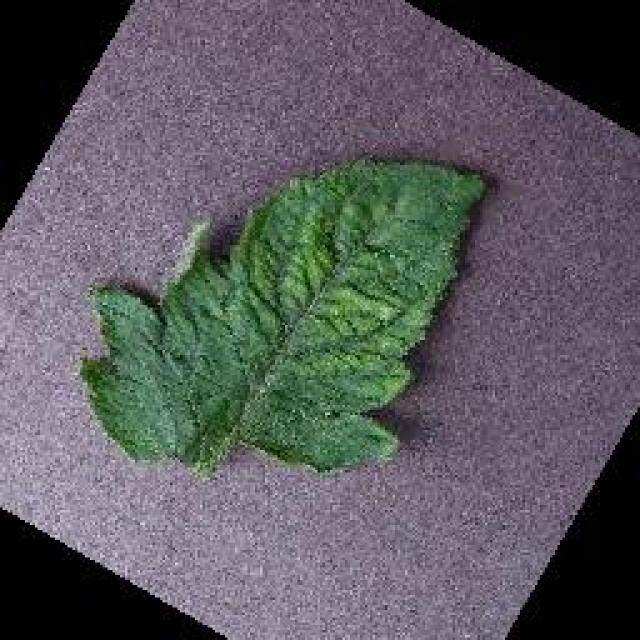Tomato___Tomato_mosaic_virus: (82, 158, 482, 472)
